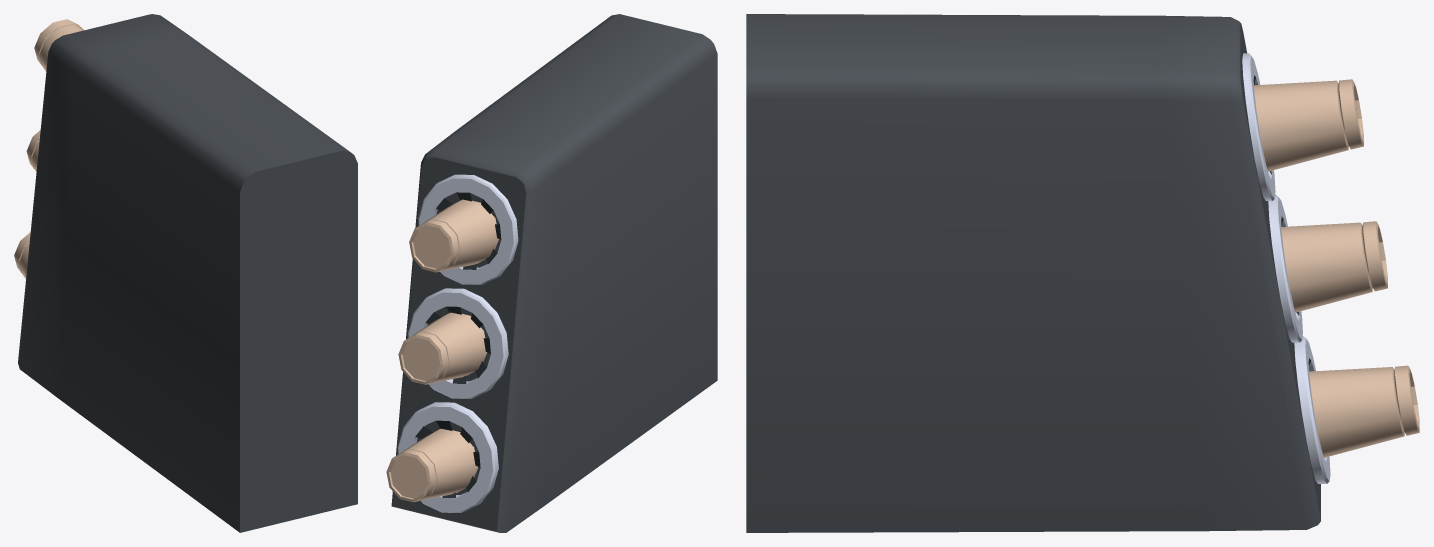
The model's file is SM_cup_dispenser.fbx.
3 views of the same model, side by side, from view 1: azimuth 30°, elevation 25°; view 2: azimuth 150°, elevation 25°; view 3: azimuth 270°, elevation 25° (orthographic). The views are drawn at different scales.
Parts seen in each view (by area): view 1: cup_dispenser; view 2: cup_dispenser; view 3: cup_dispenser.
Boxes of the visible parts, x1,y1,x2,y2 form: cup_dispenser: (14,14,357,532); cup_dispenser: (386,14,717,532); cup_dispenser: (746,14,1419,532).
Bounding box in the file's own units: 20.75 × 60.16 × 80.73.
